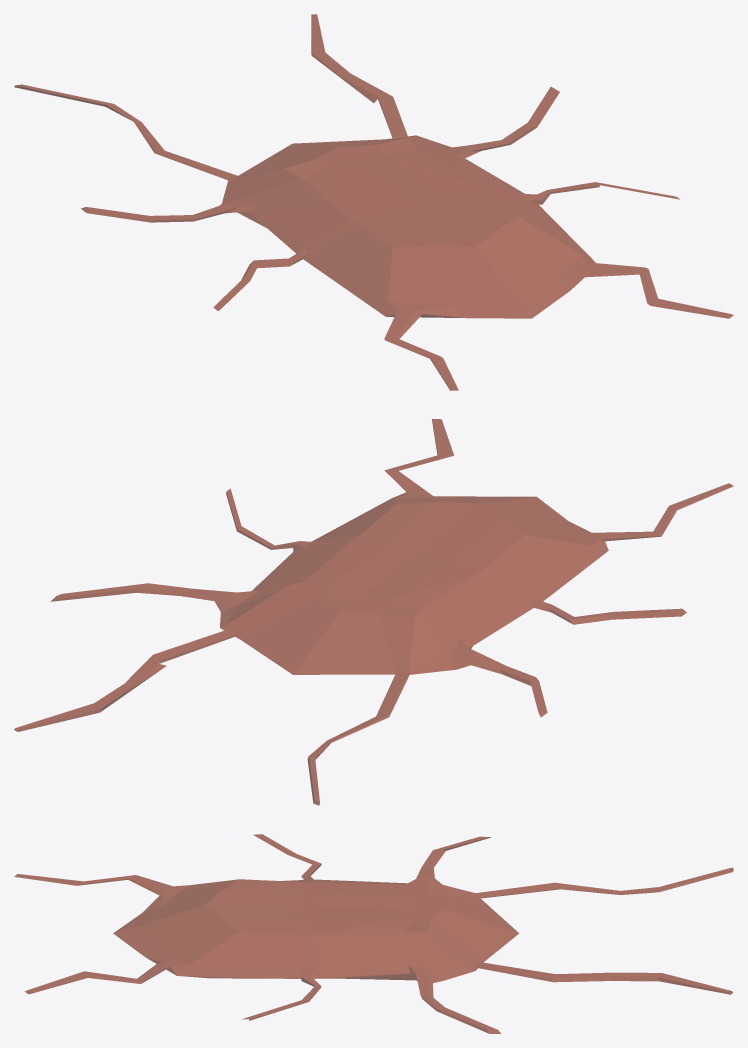
3 views of the same model, one above another, from view 1: azimuth 30°, elevation 25°; view 2: azimuth 150°, elevation 25°; view 3: azimuth 270°, elevation 25° (orthographic). The views are drawn at different scales.
Visible parts, largest first — view 1: Cube; view 2: Cube; view 3: Cube.
Part boxes in pixels (x1,y1,x2,y2): Cube: [14, 14, 733, 390]; Cube: [14, 419, 733, 805]; Cube: [14, 834, 733, 1033].
Size of the model in its own units: 0.6668 by 0.0823 by 1.02.
